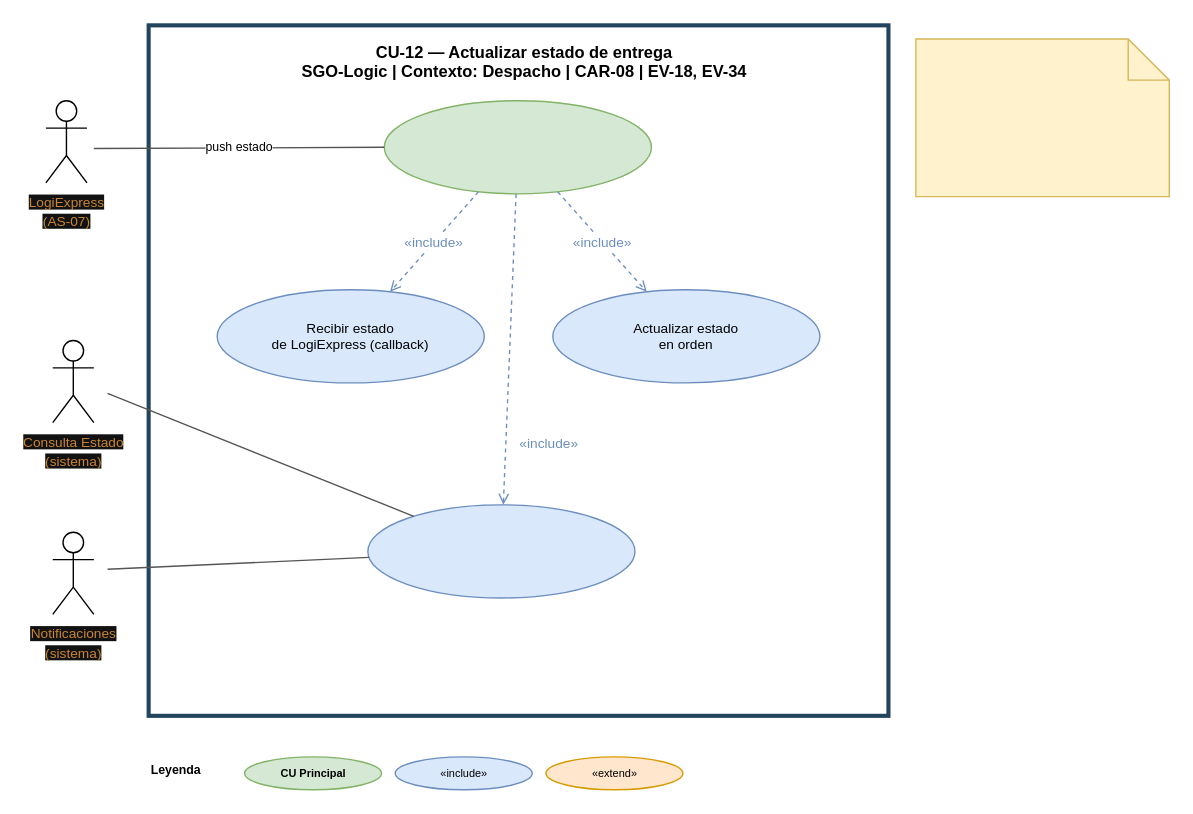
Some shapes in this 1193 by 814 pixel diagram are drawn without their labels. Here are the shapes that lost their labels. From the top down, the centre of each, then its label:
At point (1041, 117): "Estados posibles: Preparación Tránsito Entrega Incidencia (EV-34)".
At point (517, 146): "Actualizar estado de entrega".
At point (500, 550): "Publicar evento para Consulta Estado y Notif.".
